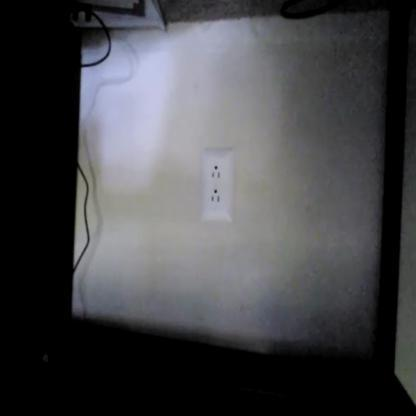OUTLET: (200, 148, 236, 224)
